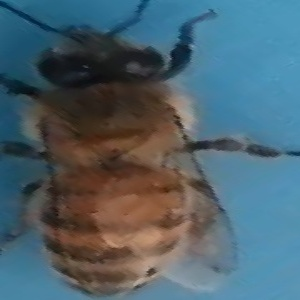bee: (3, 2, 283, 300)
